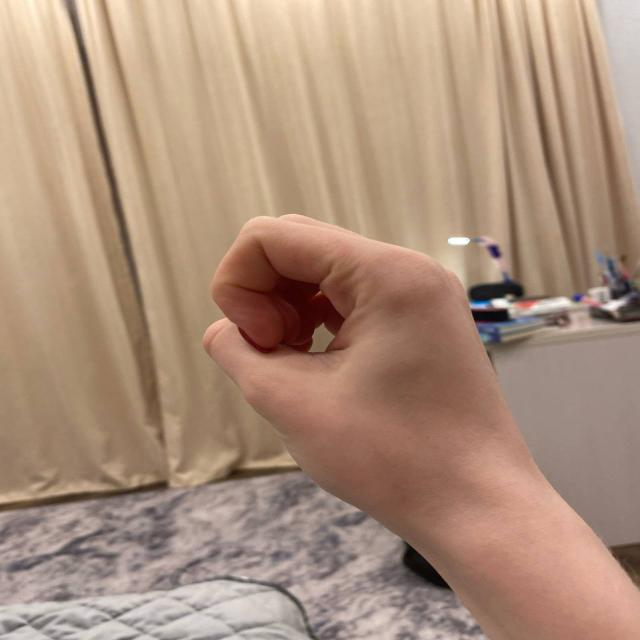e: (171, 168, 491, 507)
